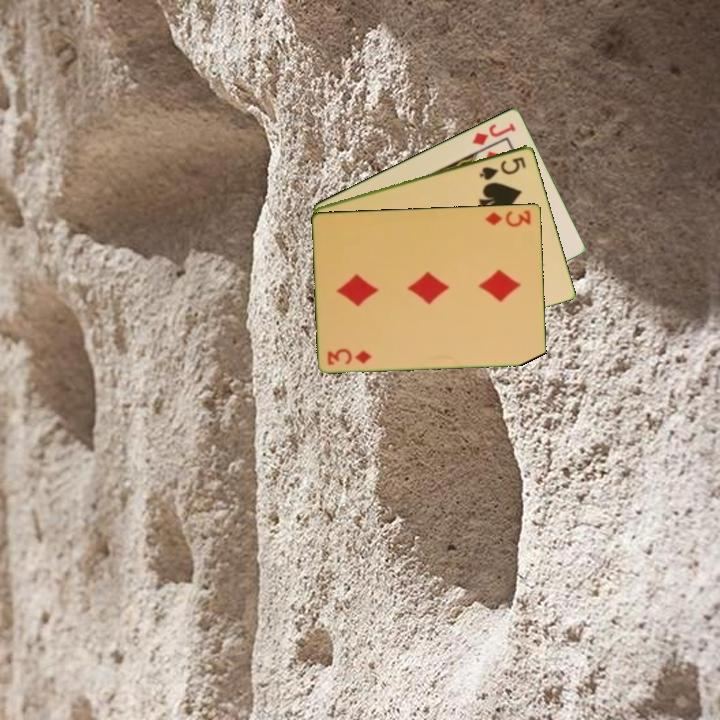3d: (482, 207, 534, 229), (324, 346, 375, 368)
5s: (476, 153, 529, 183)
Jd: (469, 119, 519, 148)
